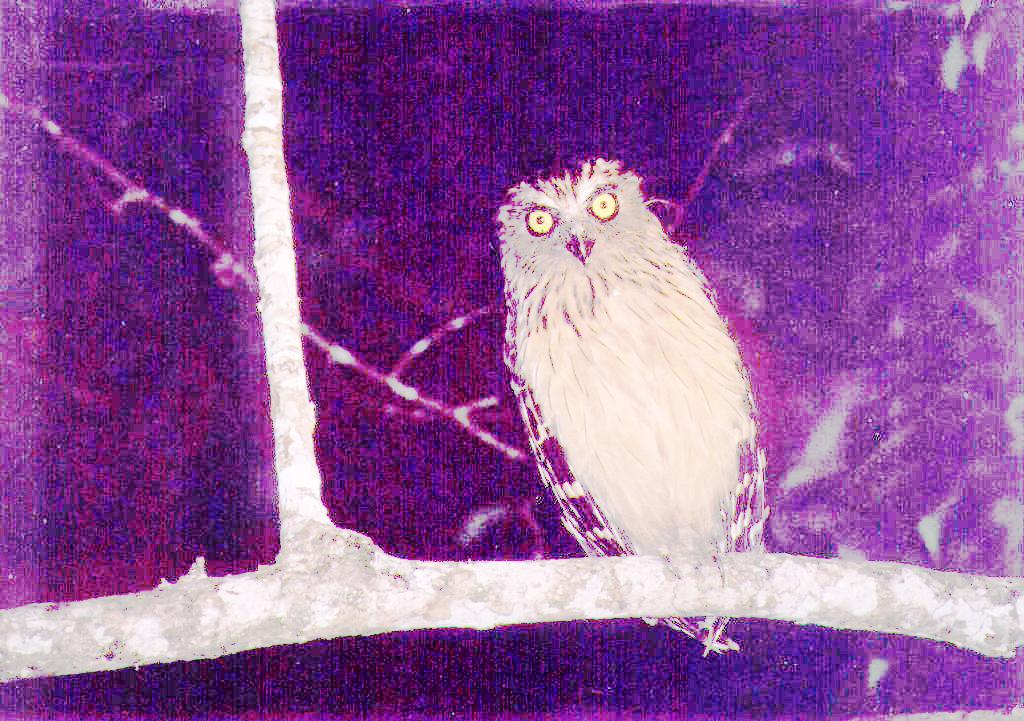Owl: (490, 152, 770, 664)
